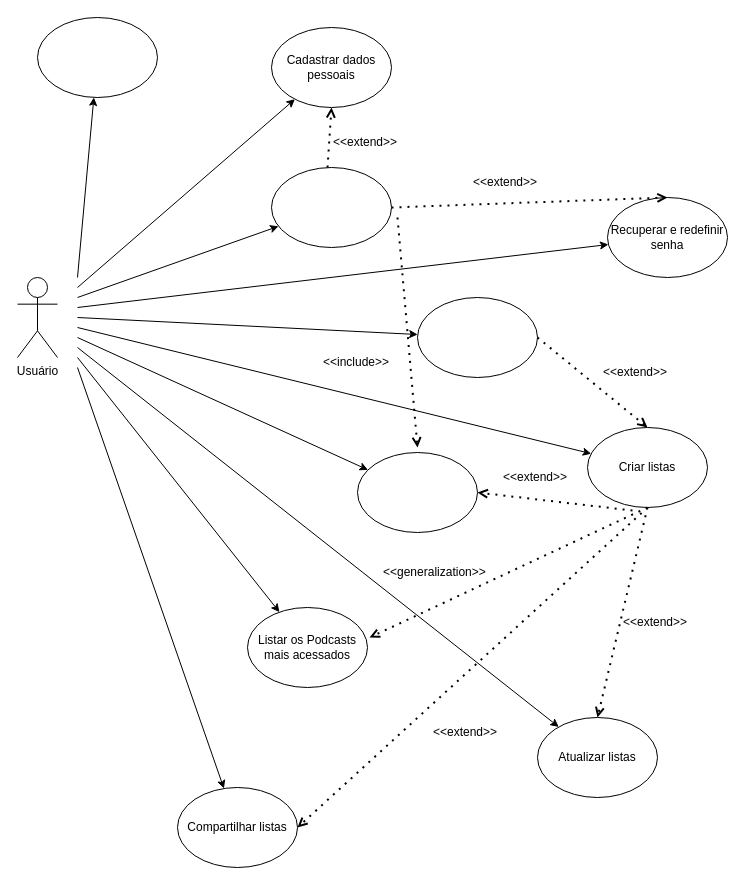
This 745x885 diagram has some shape labels left out. The centre of each missing label's shape, as x and y in pixels:
"Atualizar dados pessoais" goes at [97,57].
"Favoritar e desfavoritar podcasts" goes at [477,337].
"Filtrar e pesquisar listas" goes at [417,492].
"Logar" goes at [331,207].
